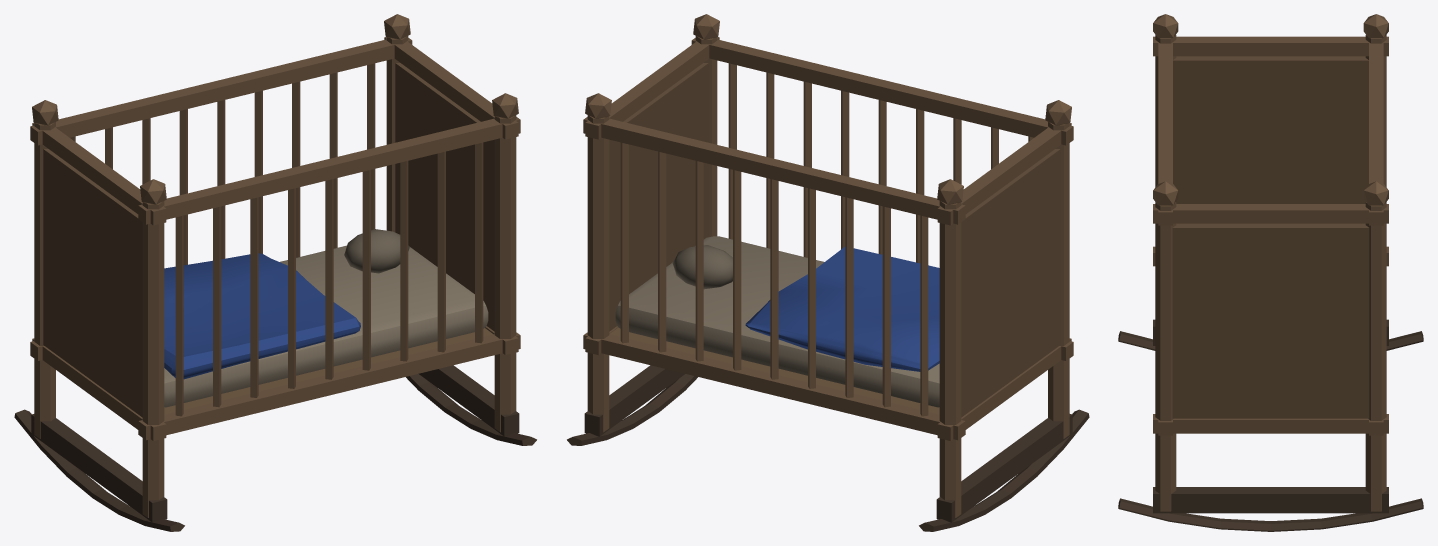
The model's file is crib.glb.
3 views of the same model, side by side, from view 1: azimuth 30°, elevation 25°; view 2: azimuth 150°, elevation 25°; view 3: azimuth 270°, elevation 25° (orthographic). The views are drawn at different scales.
Parts seen in each view (by area): view 1: crib; view 2: crib; view 3: crib.
Boxes of the visible parts, x1,y1,x2,y2 form: crib: [14, 14, 536, 531]; crib: [567, 14, 1089, 531]; crib: [1118, 14, 1423, 531].
Size of what is drawn, in the model's own units: 1 by 0.9155 by 0.7256.
